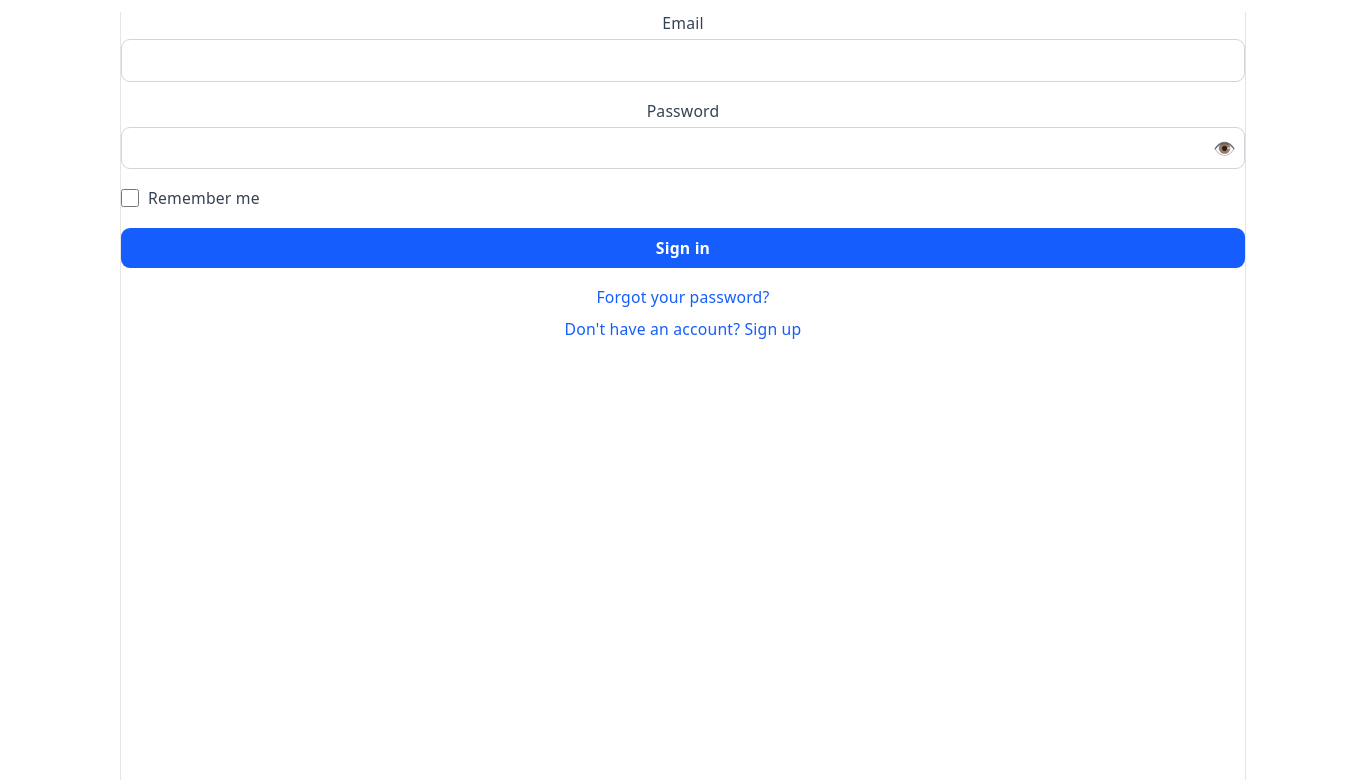
LoginForm › shows password validation error for short password
In the field labelled "Email": (683, 60) [121,39,1245,82], type "user@example.com"
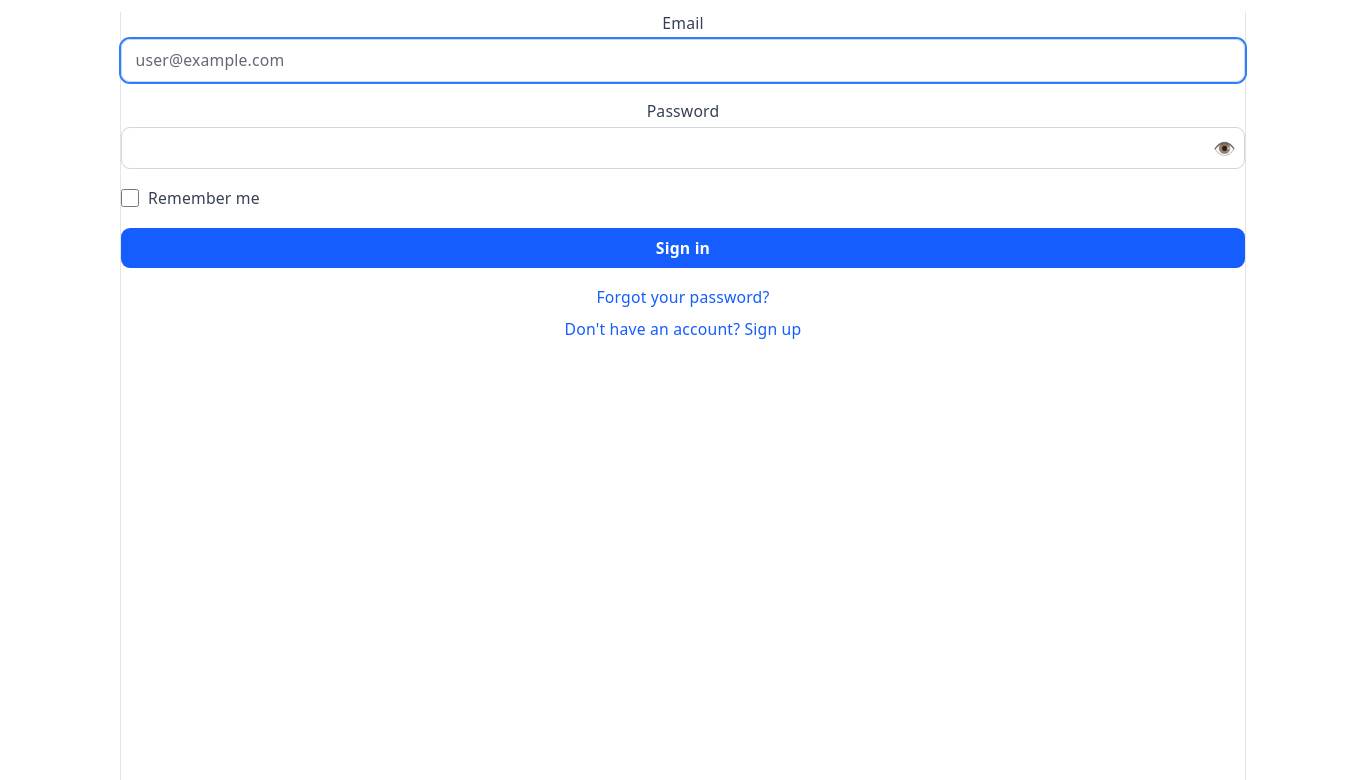
In the password field labelled "Password": (683, 148) [121,126,1245,169], type "short"
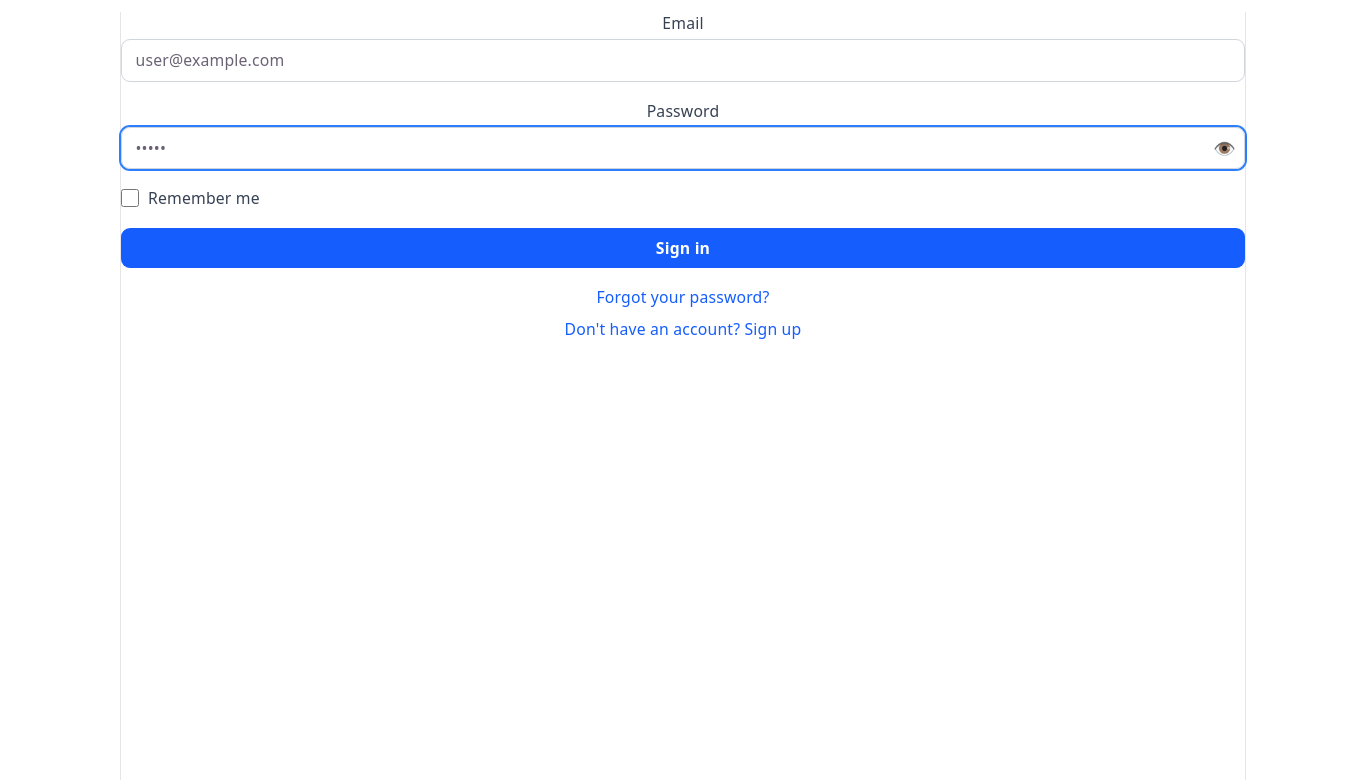
Click the button "Sign in": (683, 248) [121,228,1245,268]
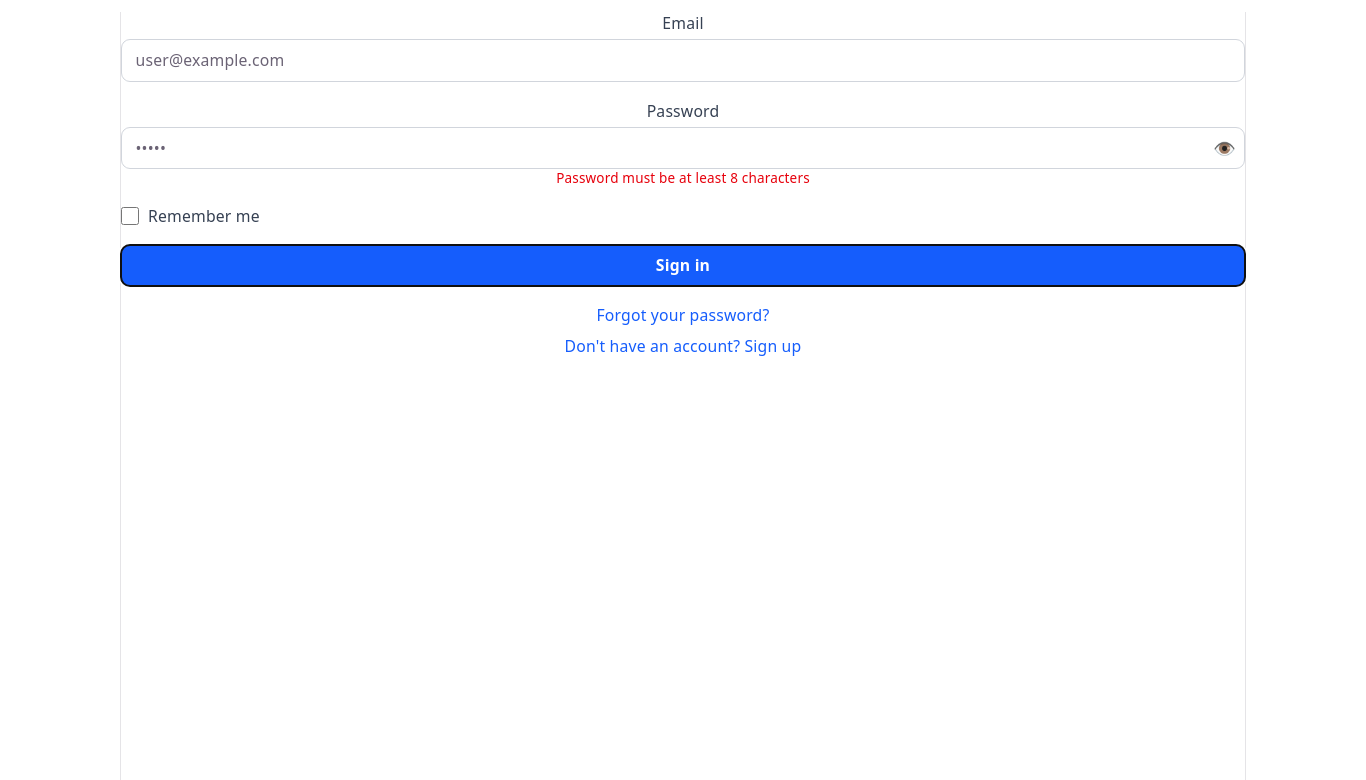
Result: the text "Password must be at least 8 characters" is shown at [556,169,810,187]
